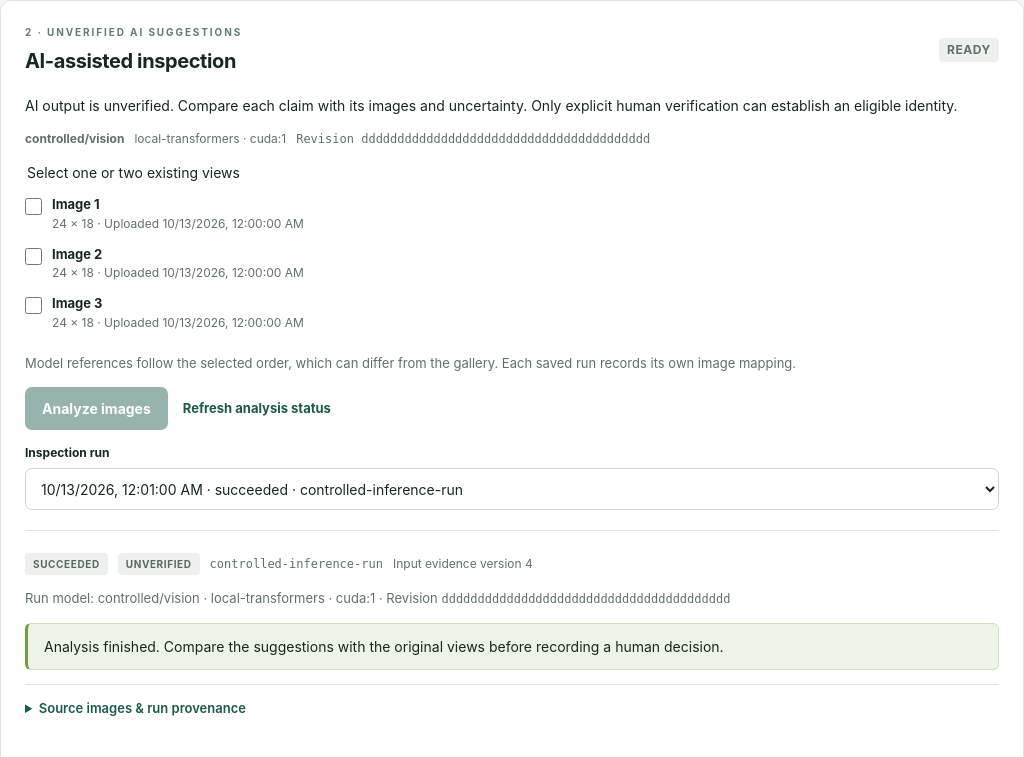
Test: unverified inspection evidence › labels a historical TokenFactory run independently of the current pinned local provider
The width and height of the screenshot is (1024, 757).
Expected: the text "AMD TokenFactory is a shared remote service" is not shown
Select "10/13/2026, 12:01:00 AM · succeeded · historical-shared-run" in the dropdown labelled "Inspection run" at (512, 489), box [25,468,999,510]
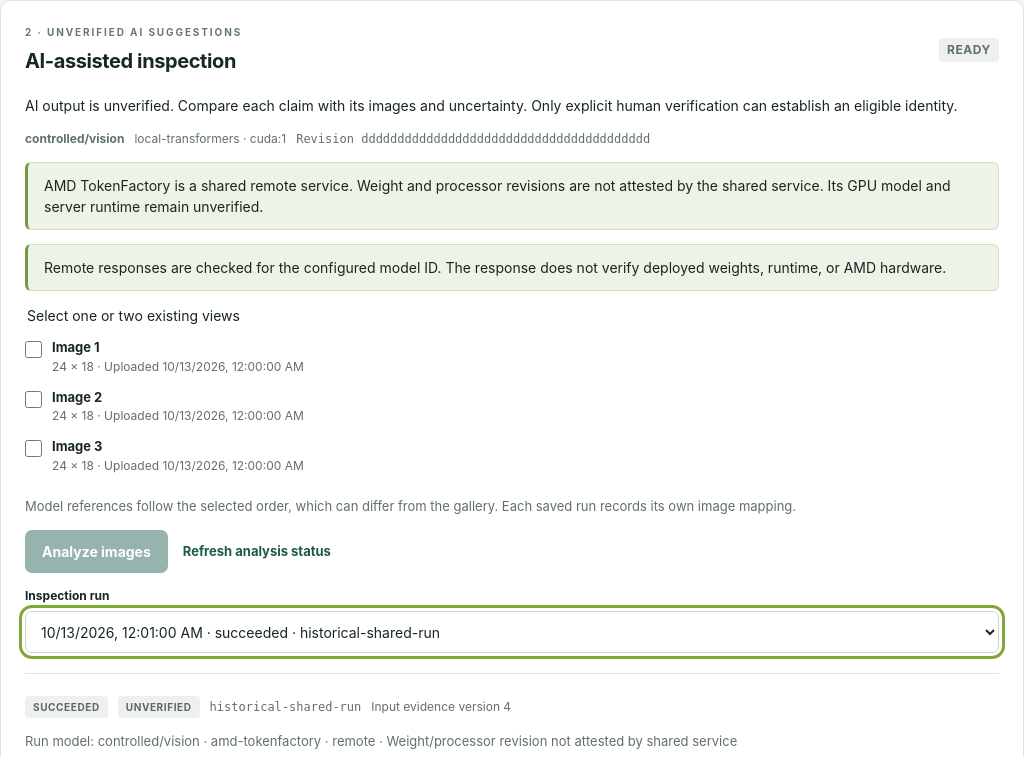
Expected: the text "Run model:" shows "amd-tokenfactory · remote · Weight/processor revision not attested by shared service", [25,733,737,749]
Expected: the text "AMD TokenFactory is a shared remote service" is shown, [44,177,950,215]
Select "10/13/2026, 12:01:00 AM · succeeded · controlled-inference-run" in the dropdown labelled "Inspection run" at (512, 632), box [25,611,999,653]
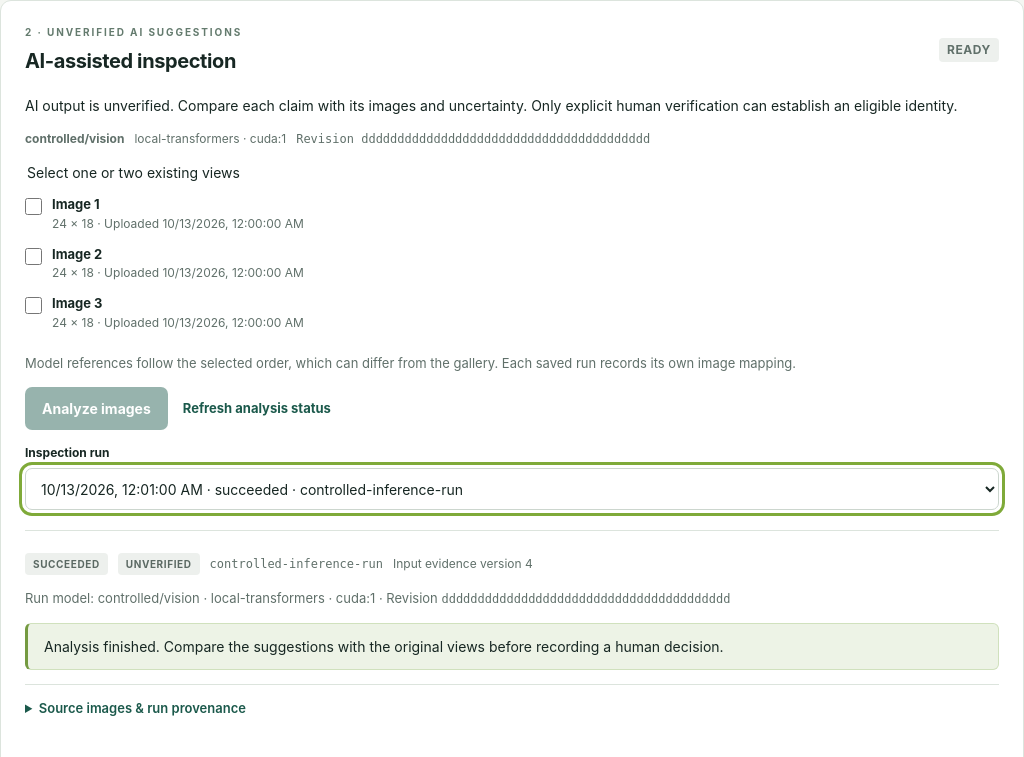
Expected: the text "AMD TokenFactory is a shared remote service" is gone
